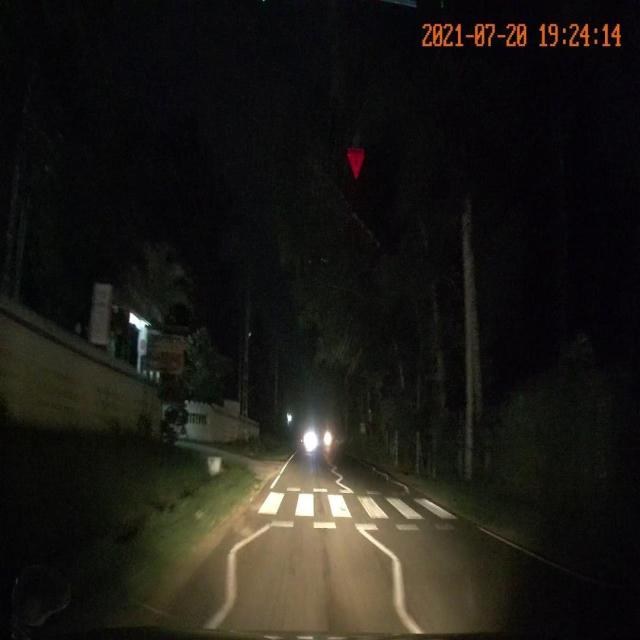Crosswalk: (249, 486, 463, 533)
